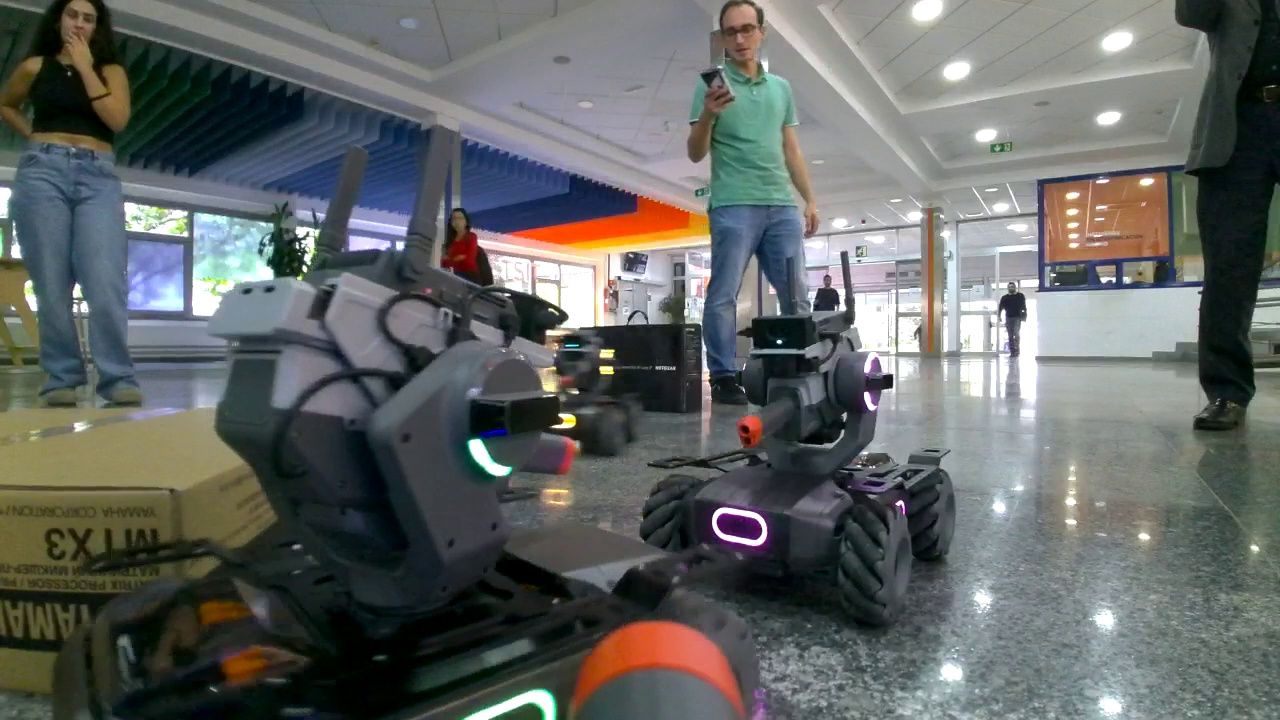robot: (636, 307, 961, 635)
